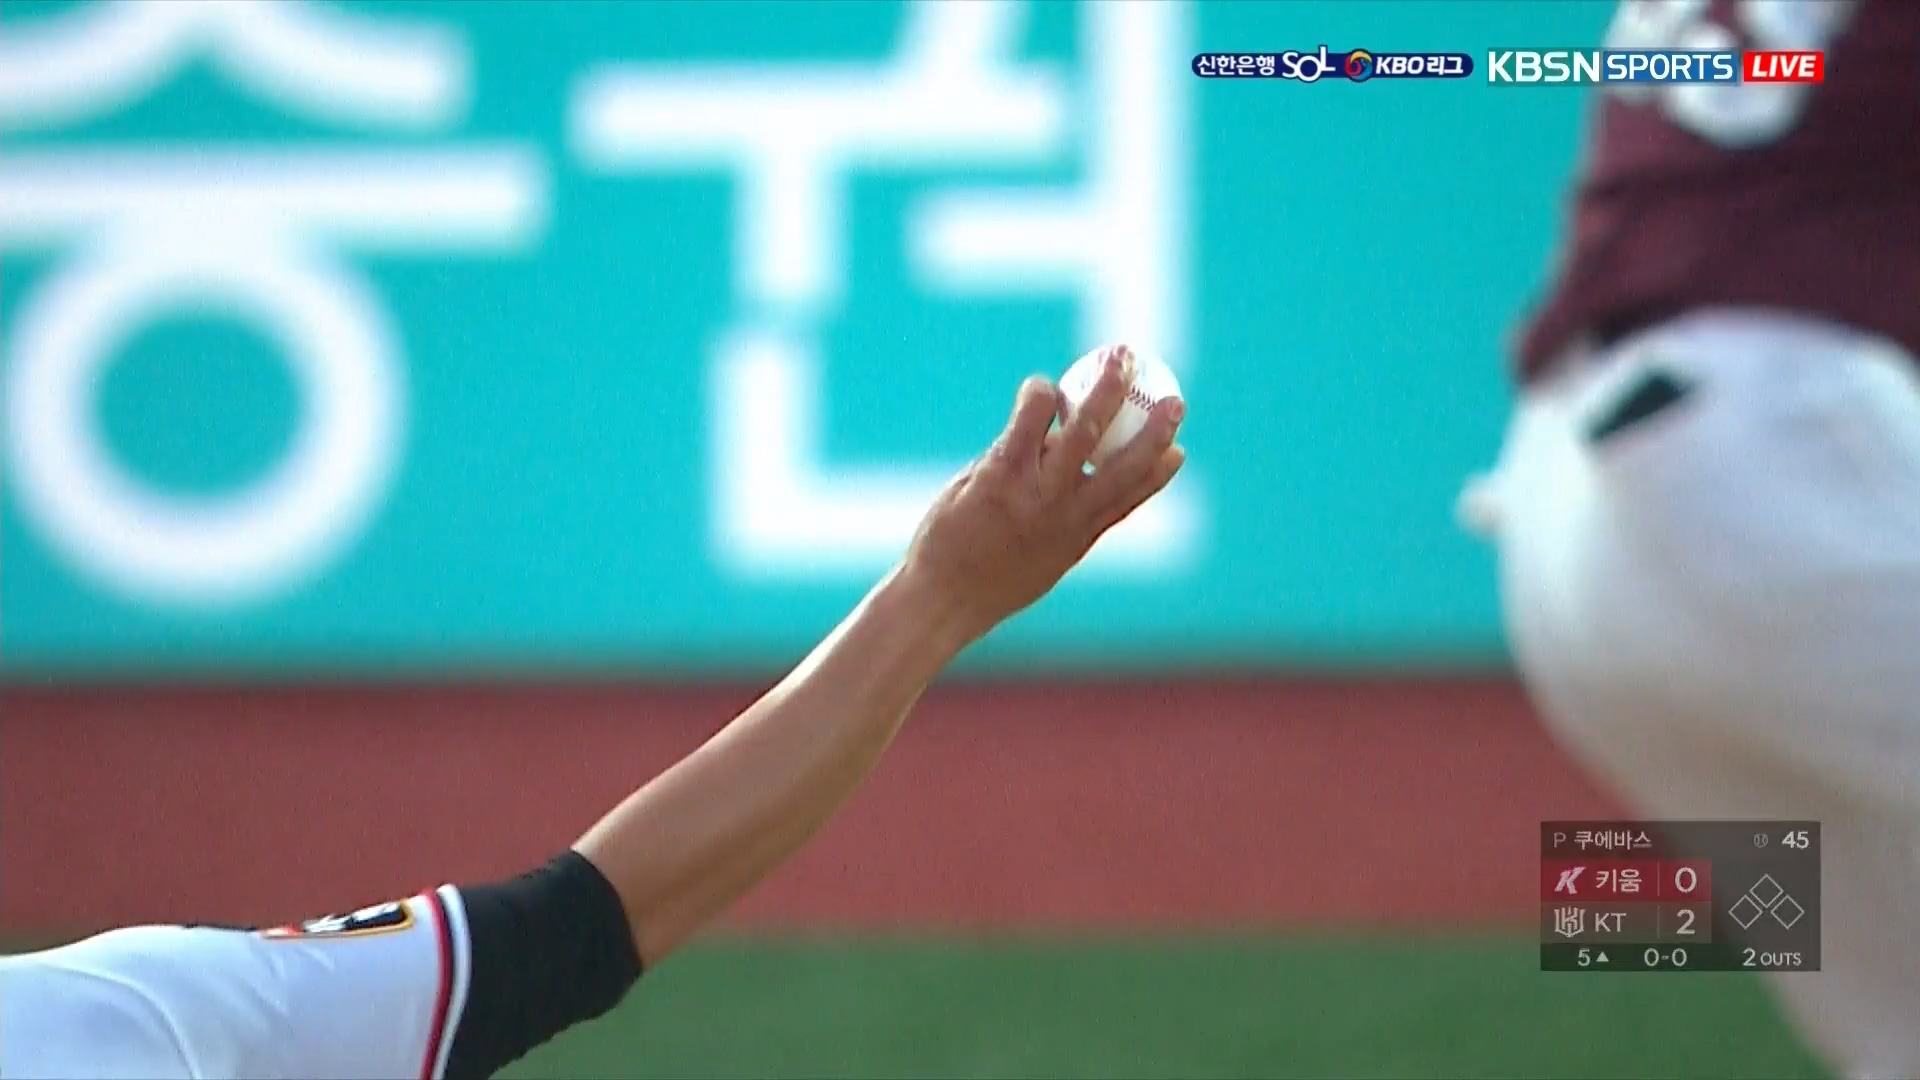zoomin_hand: (575, 335, 1209, 972)
